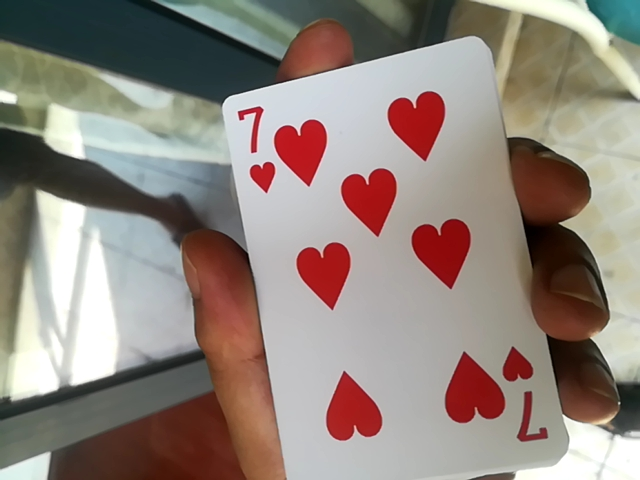hx 7: (223, 40, 589, 479)
